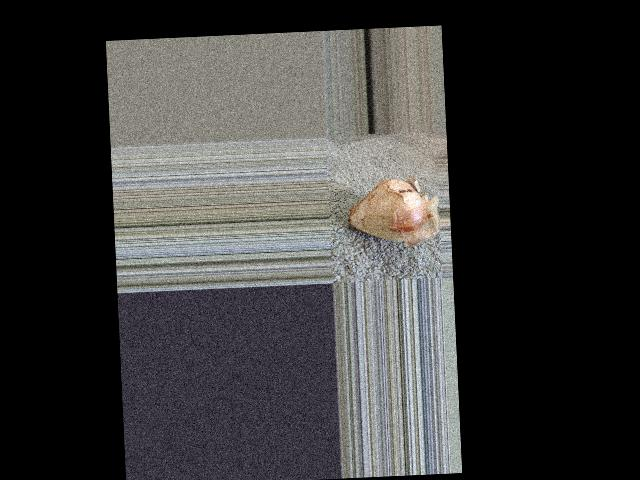onion: (345, 176, 422, 239)
